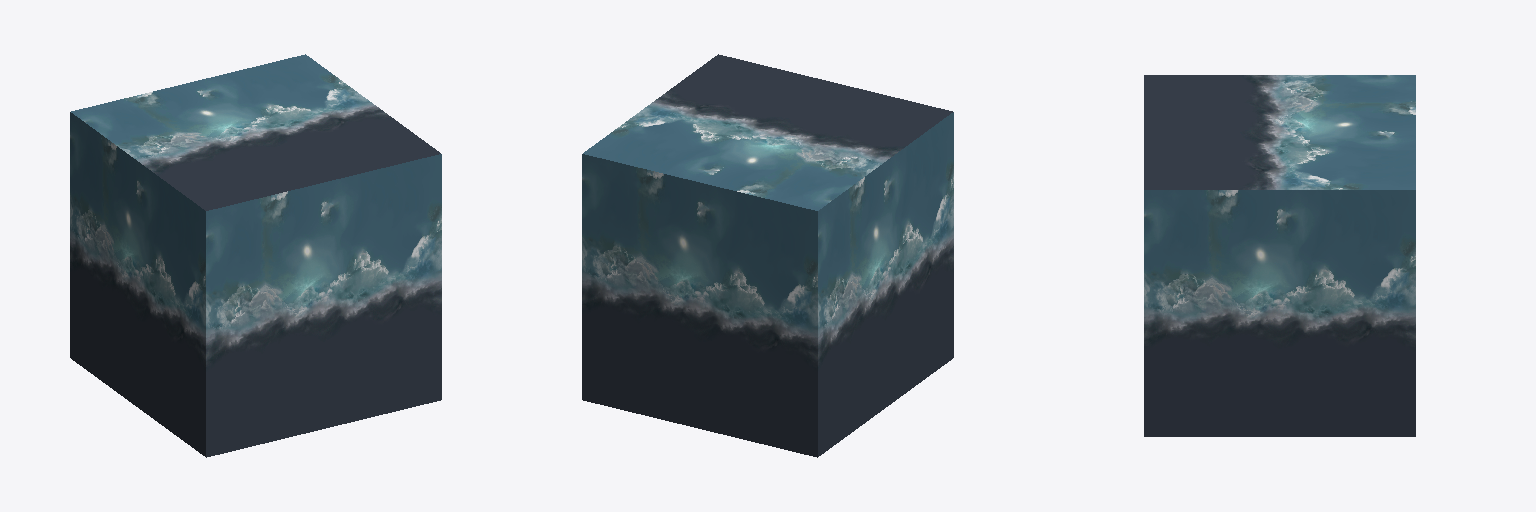
3 views of the same model, side by side, from view 1: azimuth 30°, elevation 25°; view 2: azimuth 150°, elevation 25°; view 3: azimuth 270°, elevation 25° (orthographic).
Visible parts, largest first — view 1: cube; view 2: cube; view 3: cube.
Boxes of the visible parts, box(x1,y1,x2,y2) form: cube: box(70, 54, 441, 457); cube: box(582, 54, 953, 457); cube: box(1144, 75, 1415, 436).
Bounding box in the file's own units: 1 × 1 × 1.
Materials: 1 (1 with a texture image).